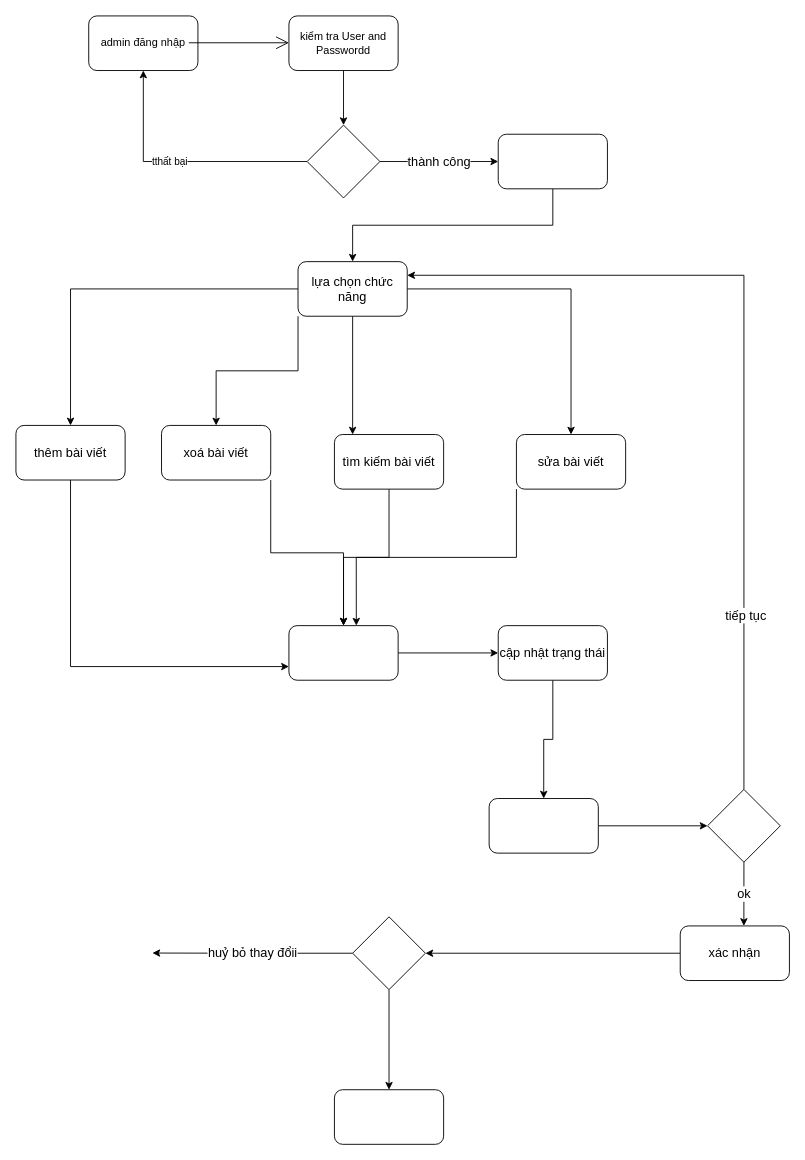
Some shapes in this 805 by 1160 pixel diagram are drawn without their labels. The shapes that lost their labels are listed below. From the top down, each one's centre as x and y in pixels, then its label:
the point at 552,161: hiển thị danh sách user
the point at 343,652: nhập thông tin bài viết
the point at 543,825: cập nhật danh sách bài viết
the point at 389,1116: thông báo thành công
